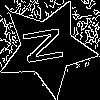N: (22, 23, 74, 67)
